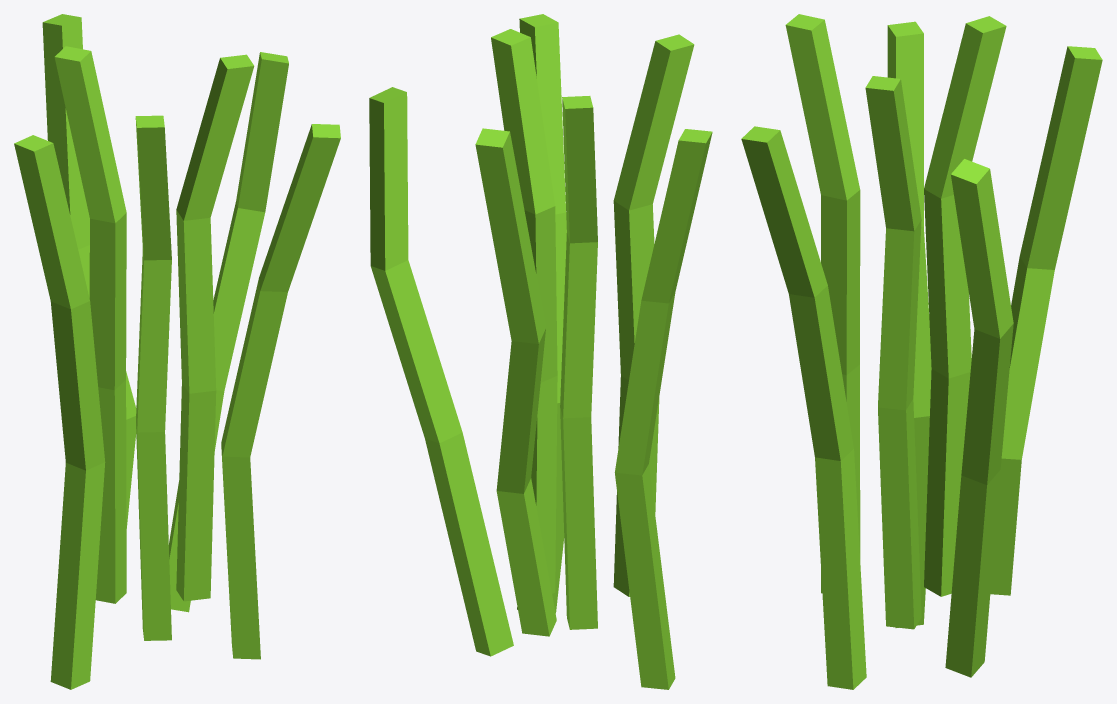
The model's file is BushV1.fbx.
3 renders of one model, left to right at view 1: azimuth 30°, elevation 25°; view 2: azimuth 150°, elevation 25°; view 3: azimuth 270°, elevation 25°, orthographic. The views are drawn at different scales.
Visible parts, largest first — view 1: Cube.021; view 2: Cube.021; view 3: Cube.021.
Part boxes in pixels (x1,y1,x2,y2): Cube.021: [14, 14, 340, 689]; Cube.021: [369, 14, 712, 689]; Cube.021: [741, 14, 1102, 689].
Size of the model in its own units: 49.08 by 91.41 by 48.54.
